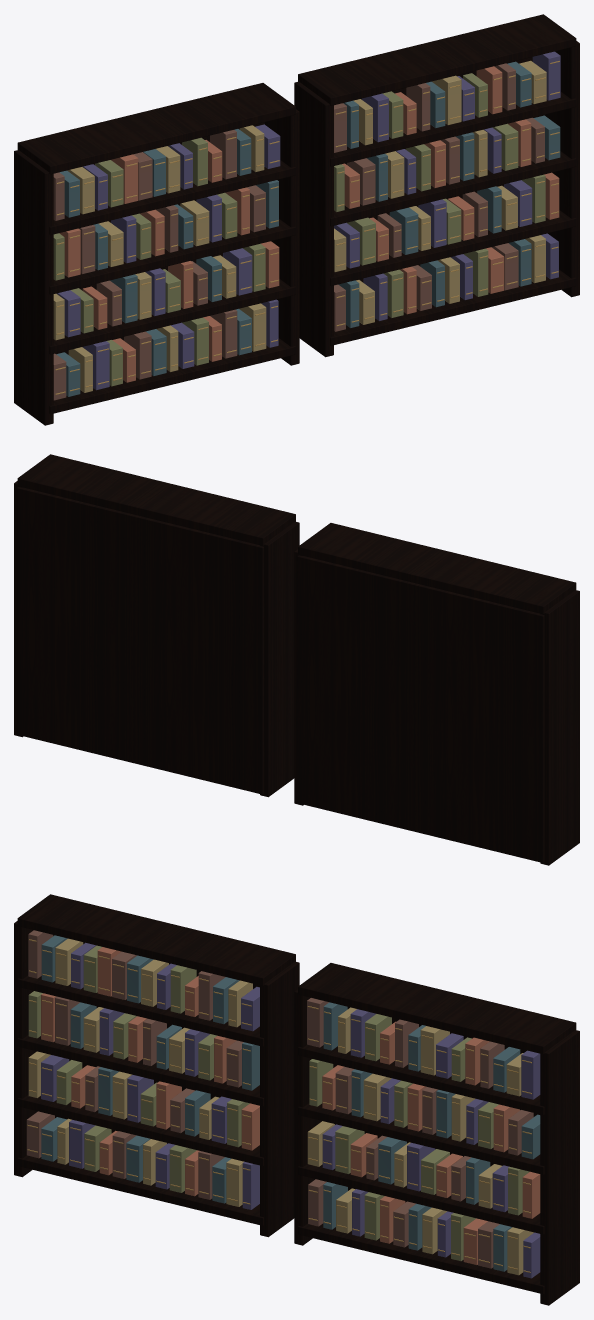
File: west.glb
The picture shows the model from 3 angles, top to bottom: view 1: azimuth 30°, elevation 25°; view 2: azimuth 150°, elevation 25°; view 3: azimuth 330°, elevation 25°; orthographic projection.
Visible parts, largest first — view 1: victorian-study west; view 2: victorian-study west; view 3: victorian-study west.
Boxes of the visible parts, x1,y1,x2,y2 form: victorian-study west: [14, 14, 579, 425]; victorian-study west: [14, 454, 579, 865]; victorian-study west: [14, 894, 579, 1305].
Bounding box in the file's own units: 5.44 × 2.51 × 0.59.
8 materials, 1 textured.
